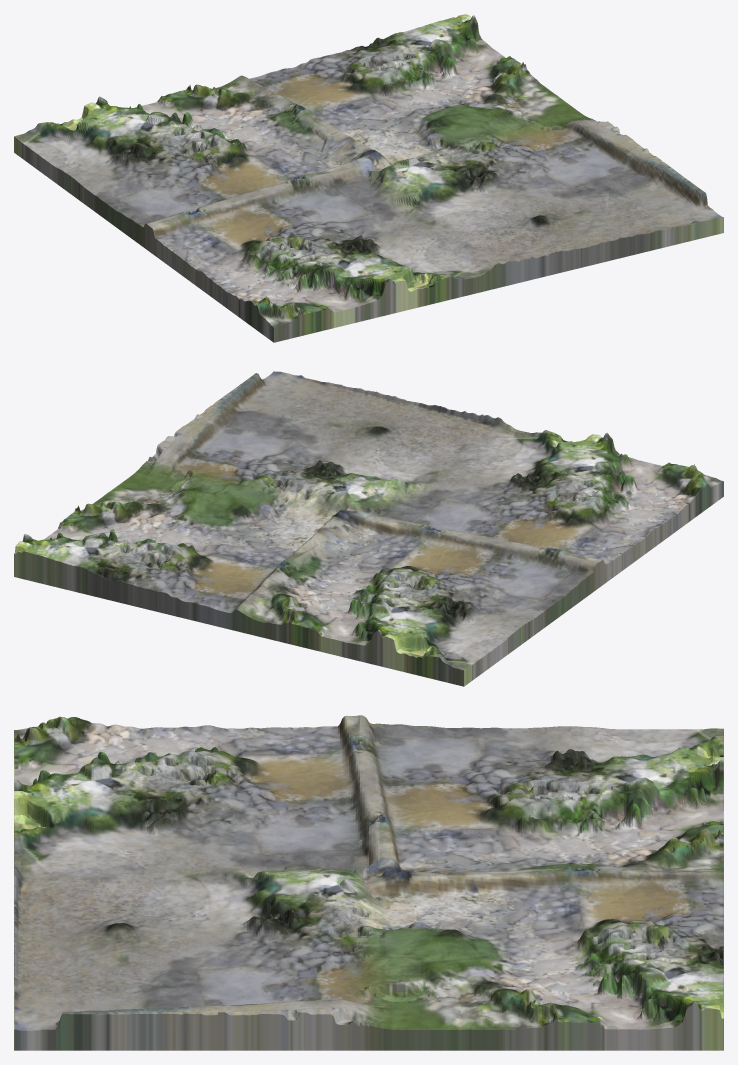
The model's file is verti_arena_medium.dae.
3 views of the same model, one above another, from view 1: azimuth 30°, elevation 25°; view 2: azimuth 150°, elevation 25°; view 3: azimuth 270°, elevation 25° (orthographic). The views are drawn at different scales.
Parts seen in each view (by area): view 1: terrain; view 2: terrain; view 3: terrain.
Part boxes in pixels (x1,y1,x2,y2): terrain: (14, 14, 723, 342); terrain: (14, 371, 723, 686); terrain: (14, 715, 723, 1050).
Size of the model in its own units: 8 by 8 by 0.6.
Materials: 1 (1 with a texture image).
